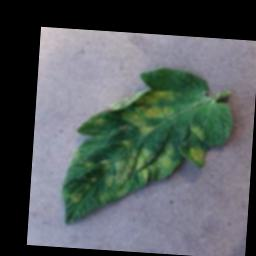Leaf_Mold: (68, 135, 177, 210), (117, 85, 179, 137), (188, 143, 207, 168), (189, 124, 207, 142)
